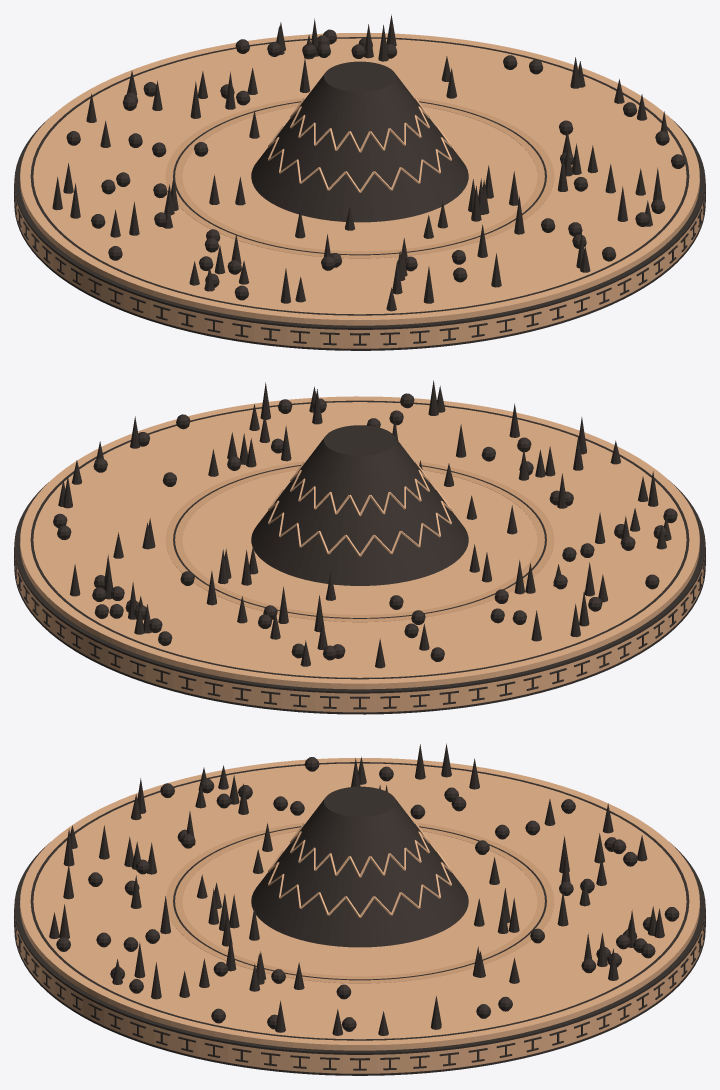
File: blackfigure.glb
3 renders of one model, top to bottom at view 1: azimuth 30°, elevation 25°; view 2: azimuth 150°, elevation 25°; view 3: azimuth 270°, elevation 25°, orthographic.
Parts seen in each view (by area): view 1: flat-clay, mountain, rim, flat-road, cyl, flat-ring.001, cyl.001, flat-ring; view 2: flat-clay, mountain, rim, flat-road, cyl, flat-ring.001, cyl.001, flat-ring; view 3: flat-clay, mountain, rim, flat-road, cyl, flat-ring.001, cyl.001, flat-ring.
Boxes of the visible parts, left/top/right/bottom form: flat-clay: left=20, top=33, right=699, bottom=325; mountain: left=251, top=61, right=468, bottom=222; rim: left=15, top=193, right=704, bottom=348; flat-road: left=165, top=97, right=554, bottom=258; cyl: left=14, top=117, right=705, bottom=329; flat-ring.001: left=30, top=37, right=689, bottom=315; cyl.001: left=14, top=202, right=705, bottom=350; flat-ring: left=173, top=101, right=546, bottom=255; flat-clay: left=20, top=396, right=699, bottom=689; mountain: left=251, top=425, right=468, bottom=585; rim: left=15, top=557, right=704, bottom=712; flat-road: left=165, top=461, right=554, bottom=622; cyl: left=14, top=480, right=705, bottom=693; flat-ring.001: left=30, top=400, right=689, bottom=679; cyl.001: left=14, top=566, right=705, bottom=714; flat-ring: left=173, top=465, right=546, bottom=618; flat-clay: left=20, top=758, right=699, bottom=1050; mountain: left=251, top=786, right=468, bottom=947; rim: left=15, top=918, right=704, bottom=1073; flat-road: left=166, top=822, right=554, bottom=983; cyl: left=14, top=842, right=705, bottom=1054; flat-ring.001: left=30, top=762, right=689, bottom=1040; cyl.001: left=14, top=927, right=705, bottom=1075; flat-ring: left=173, top=826, right=546, bottom=980.
Size of the model in its own units: 69.22 by 21.88 by 69.22.
